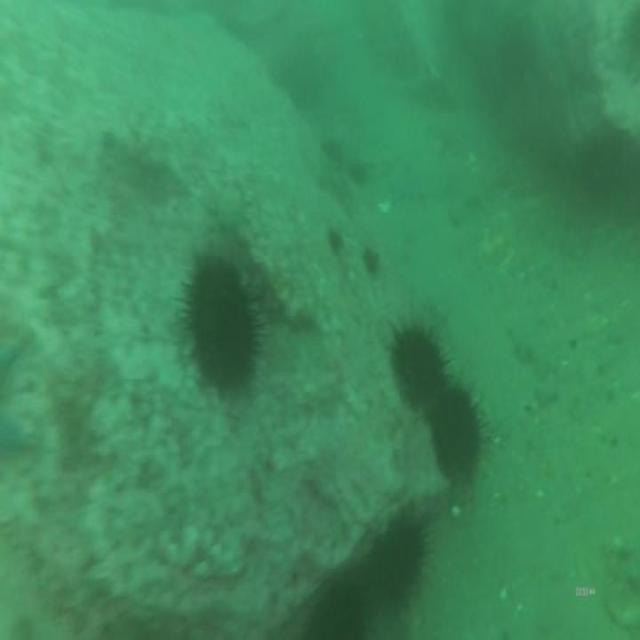echinus: (182, 261, 260, 393), (390, 330, 444, 406), (436, 387, 479, 476), (378, 520, 423, 605), (327, 224, 344, 256), (363, 245, 381, 275), (324, 136, 342, 163), (350, 161, 366, 190)
